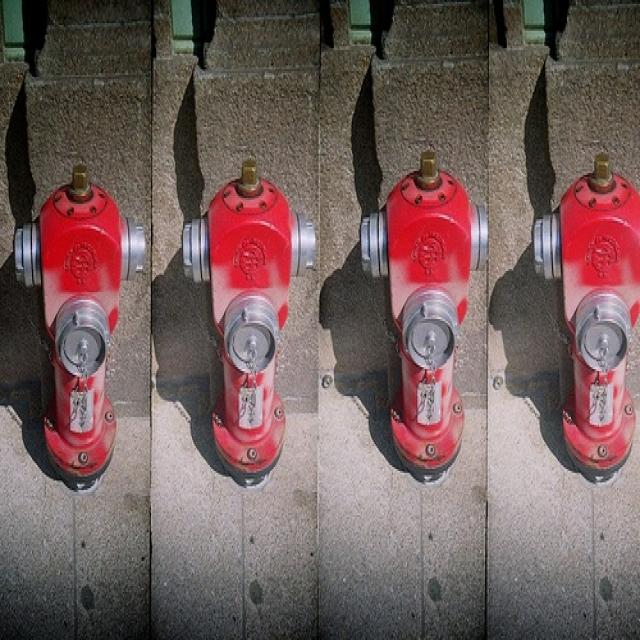fire_hydrant: (182, 150, 317, 486), (10, 160, 145, 488), (358, 146, 488, 469), (534, 150, 638, 488)
